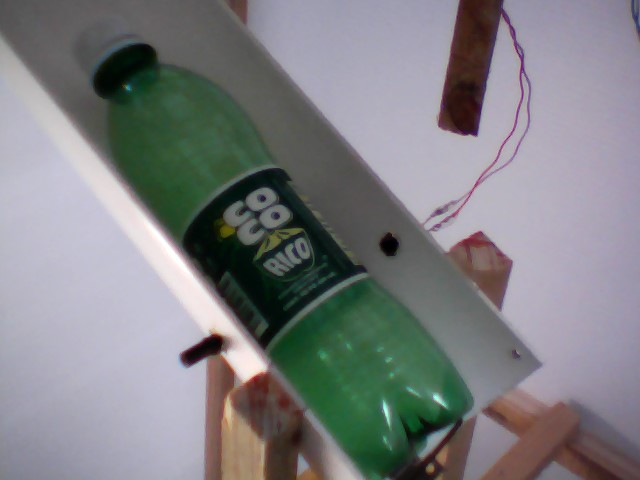plastico: (67, 12, 493, 476)
